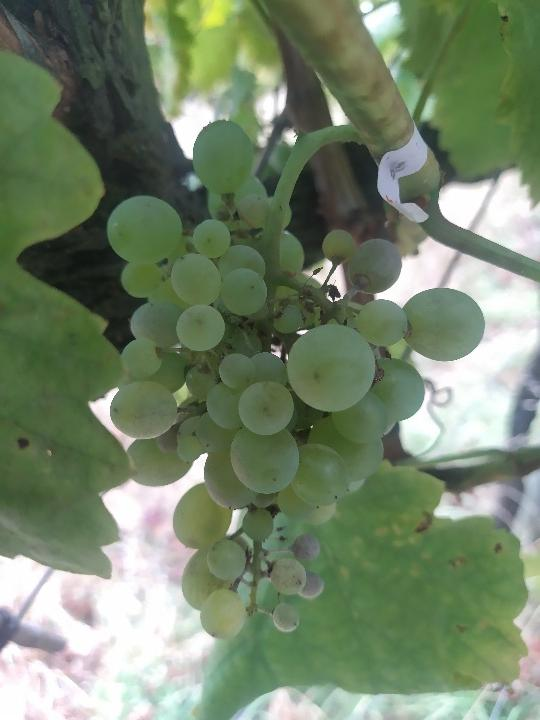grape: (102, 113, 487, 647)
